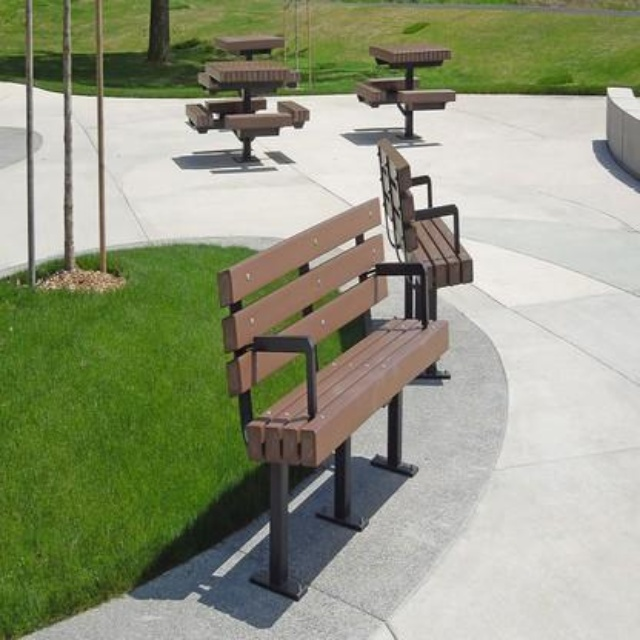obstacle: (202, 186, 400, 575), (182, 23, 311, 178), (332, 31, 477, 146)
